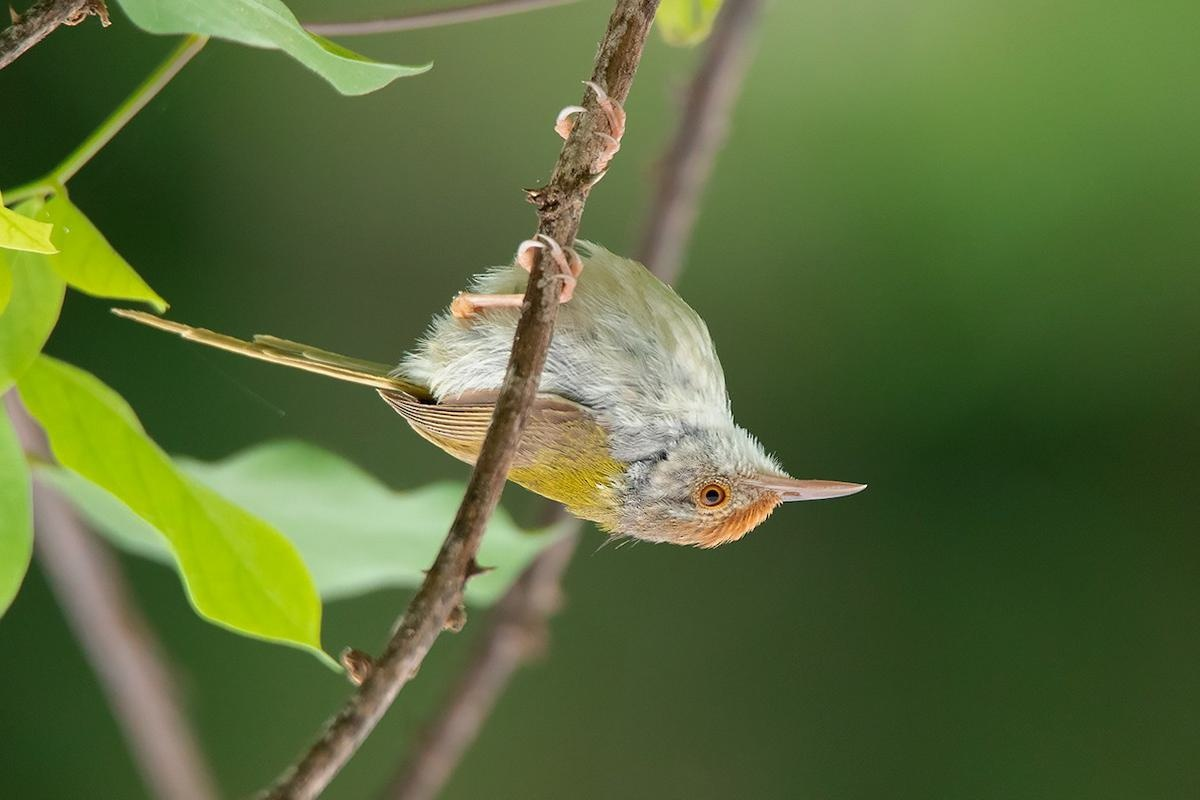tailorbird: (149, 230, 910, 574)
